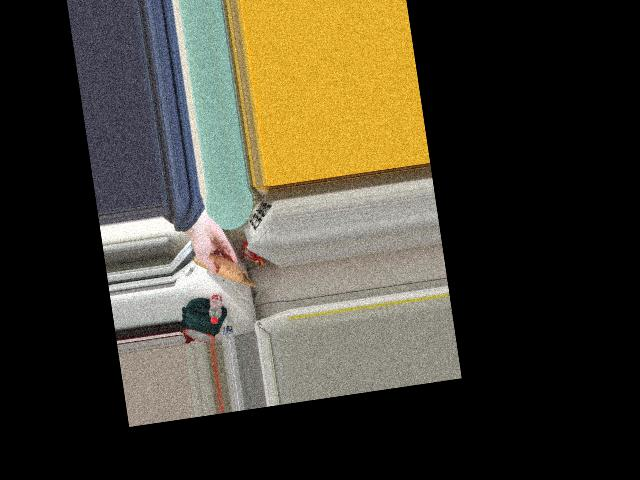sweet_potato: (194, 244, 234, 280)
